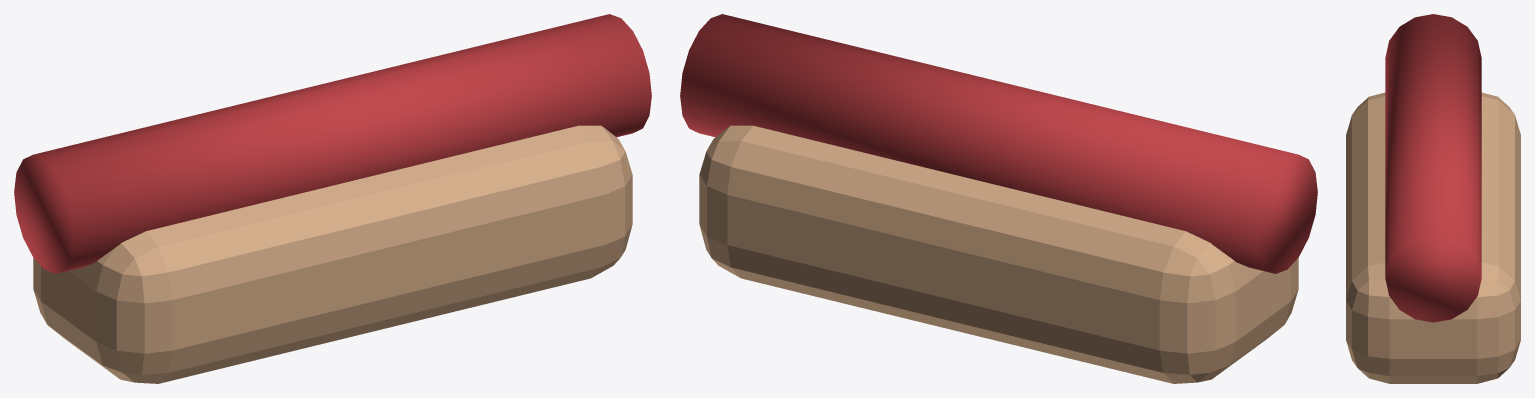
File: food_hotdog.glb
The picture shows the model from 3 angles, left to right: view 1: azimuth 30°, elevation 25°; view 2: azimuth 150°, elevation 25°; view 3: azimuth 270°, elevation 25°; orthographic projection. The views are drawn at different scales.
Parts seen in each view (by area): view 1: food_hotdog, food_hotdog_sausage; view 2: food_hotdog, food_hotdog_sausage; view 3: food_hotdog, food_hotdog_sausage.
Boxes of the visible parts, x1=… form: food_hotdog: x1=33, y1=125, x2=632, y2=383; food_hotdog_sausage: x1=14, y1=14, x2=651, y2=273; food_hotdog: x1=699, y1=125, x2=1298, y2=383; food_hotdog_sausage: x1=680, y1=14, x2=1317, y2=273; food_hotdog: x1=1346, y1=92, x2=1520, y2=383; food_hotdog_sausage: x1=1385, y1=14, x2=1481, y2=322.
Size of the model in its own units: 0.24 by 0.087 by 0.08.
